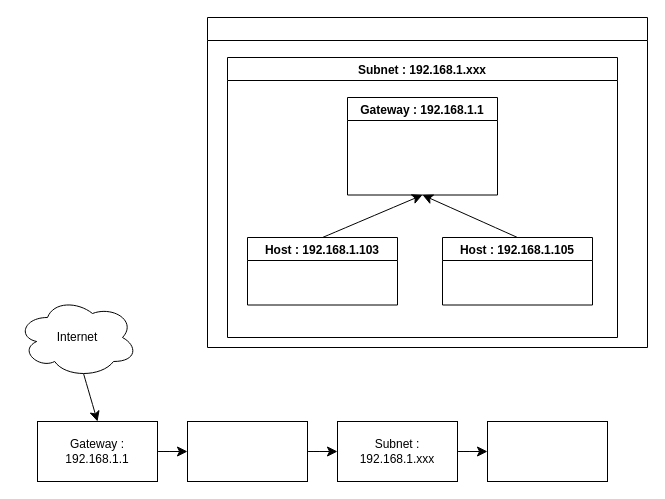
Some shapes in this 665 by 499 pixel diagram are drawn without their labels. Each missing label, with the box of its shape:
CIDN Block : 192.168.1.xxx/24: (206, 16, 648, 348)
CIDN Block: 192.168.1.xxx/24: (186, 420, 308, 482)
Host: 192.168.1.34: (486, 420, 608, 482)
